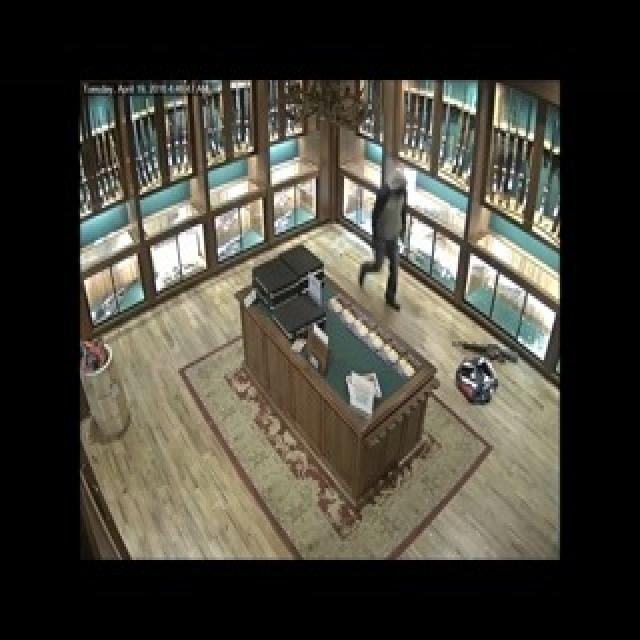thief: (368, 162, 413, 314)
